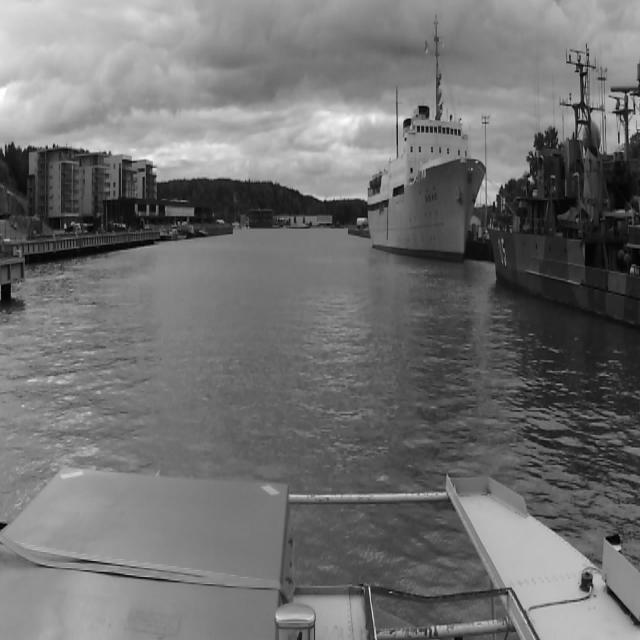ship: (486, 121, 640, 315), (368, 107, 480, 260)
